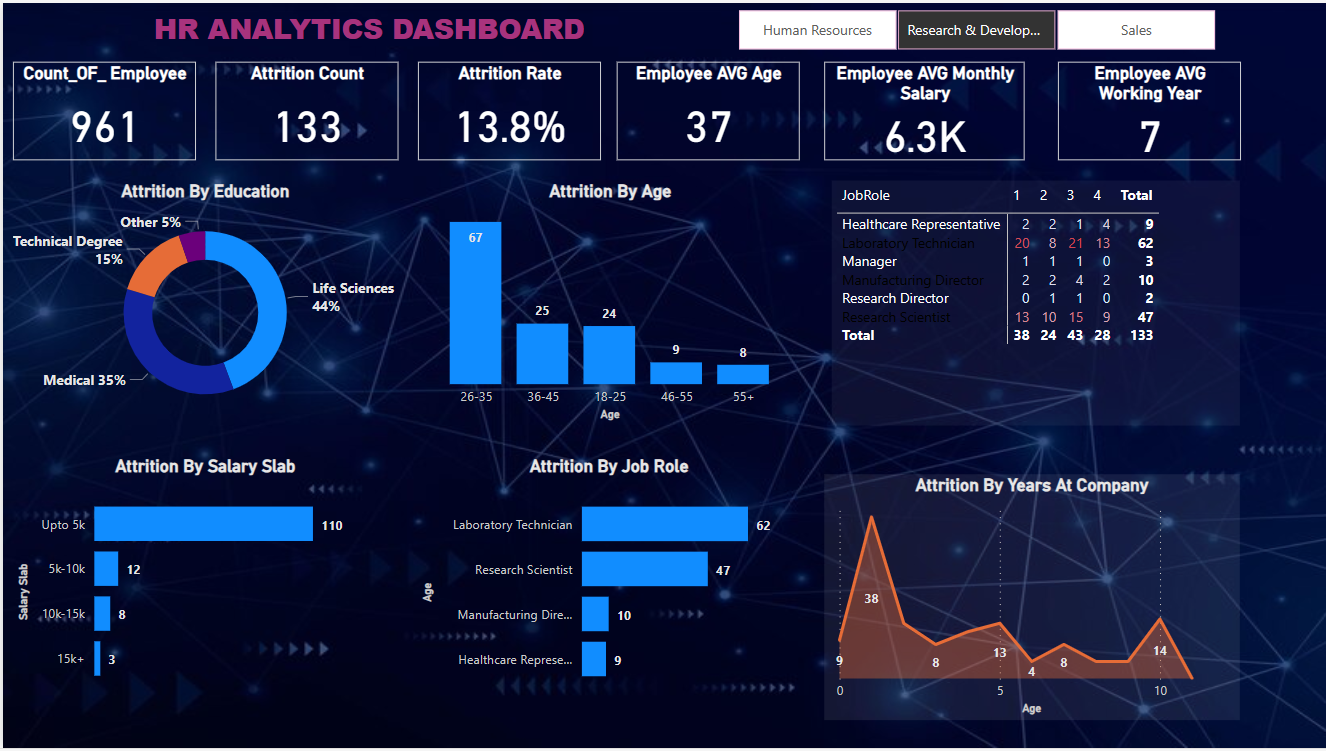

What the dashboard file says about the page in this screenshot:
{"tool":"powerbi","page":{"name":"Dashboard","canvas":[1280,720],"ordinal":0},"visuals":[{"type":"card","title":"Count_OF_ Employee","fields":{"Values":["CountNonNull(HR_Analytics.EmpID)"]},"box":[10.1,56.7,176.4,95.4],"z":0},{"type":"card","title":"Attrition Count","fields":{"Values":["Sum(HR_Analytics.Attritioncount)"]},"box":[205.6,56.7,176.4,95.4],"z":1000},{"type":"card","title":"Attrition Rate","fields":{"Values":["HR_Analytics.Attrition Rate"]},"box":[401.1,56.7,176.4,95.4],"z":2000},{"type":"card","title":"Employee AVG Age","fields":{"Values":["Avg(HR_Analytics.Age)"]},"box":[593.4,56.7,176.4,95.4],"z":3000},{"type":"card","title":"Employee AVG Monthly Salary","fields":{"Values":["Avg(HR_Analytics.MonthlyIncome)"]},"box":[793.6,56.7,193.9,95.4],"z":4000},{"type":"card","title":"Employee AVG Working Year","fields":{"Values":["Avg(HR_Analytics.YearsAtCompany)"]},"box":[1019.3,56.7,176.4,95.4],"z":5000},{"type":"donutChart","title":"Attrition By Education","fields":{"Category":["HR_Analytics.EducationField"],"Y":["Sum(HR_Analytics.Attritioncount)"]},"box":[9.5,171.7,371.9,236.8],"z":6000},{"type":"columnChart","title":"Attrition By Age","fields":{"Category":["HR_Analytics.AgeGroup"],"Y":["Sum(HR_Analytics.Attritioncount)"]},"box":[400.5,171.7,371.9,236.8],"z":7000},{"type":"pivotTable","fields":{"Columns":["HR_Analytics.JobSatisfaction"],"Rows":["HR_Analytics.JobRole"],"Values":["Sum(HR_Analytics.Attritioncount)"]},"box":[801.1,171.7,394.2,236.8],"z":8000},{"type":"barChart","title":"Attrition By Salary Slab","fields":{"Category":["HR_Analytics.SalarySlab"],"Y":["Sum(HR_Analytics.Attritioncount)"]},"box":[9.5,437.1,371.9,236.8],"z":9000},{"type":"barChart","title":"Attrition By Job Role","fields":{"Category":["HR_Analytics.JobRole","HR_Analytics.SalarySlab"],"Y":["Sum(HR_Analytics.Attritioncount)"]},"box":[399.6,437.2,371.9,237.4],"z":10000},{"type":"stackedAreaChart","title":"Attrition By Years At Company","fields":{"Category":["HR_Analytics.YearsAtCompany"],"Y":["Sum(HR_Analytics.Attritioncount)"]},"box":[793.3,455,401.6,237.4],"z":11000},{"type":"slicer","fields":{"Values":["HR_Analytics.Department"]},"box":[684.5,0,510.4,51.4],"z":12000},{"type":"textbox","box":[9.9,0,688.5,51.4],"z":13000}]}

Visuals, with their boxes in screenshot pixels (x1, y1, x2, y2), scaled from the page's 1280x720 canvas onto the 1326x751 screenshot:
"Count_OF_ Employee" card: pyautogui.locateOnScreen(10, 59, 193, 159)
"Attrition Count" card: pyautogui.locateOnScreen(213, 59, 396, 159)
"Attrition Rate" card: pyautogui.locateOnScreen(416, 59, 598, 159)
"Employee AVG Age" card: pyautogui.locateOnScreen(615, 59, 797, 159)
"Employee AVG Monthly Salary" card: pyautogui.locateOnScreen(822, 59, 1023, 159)
"Employee AVG Working Year" card: pyautogui.locateOnScreen(1056, 59, 1239, 159)
"Attrition By Education" donutChart: pyautogui.locateOnScreen(10, 179, 395, 426)
"Attrition By Age" columnChart: pyautogui.locateOnScreen(415, 179, 800, 426)
pivotTable - HR_Analytics.JobSatisfaction x HR_Analytics.JobRole: pyautogui.locateOnScreen(830, 179, 1238, 426)
"Attrition By Salary Slab" barChart: pyautogui.locateOnScreen(10, 456, 395, 703)
"Attrition By Job Role" barChart: pyautogui.locateOnScreen(414, 456, 799, 704)
"Attrition By Years At Company" stackedAreaChart: pyautogui.locateOnScreen(822, 475, 1238, 722)
slicer - HR_Analytics.Department: pyautogui.locateOnScreen(709, 0, 1238, 54)
textbox: pyautogui.locateOnScreen(10, 0, 723, 54)
